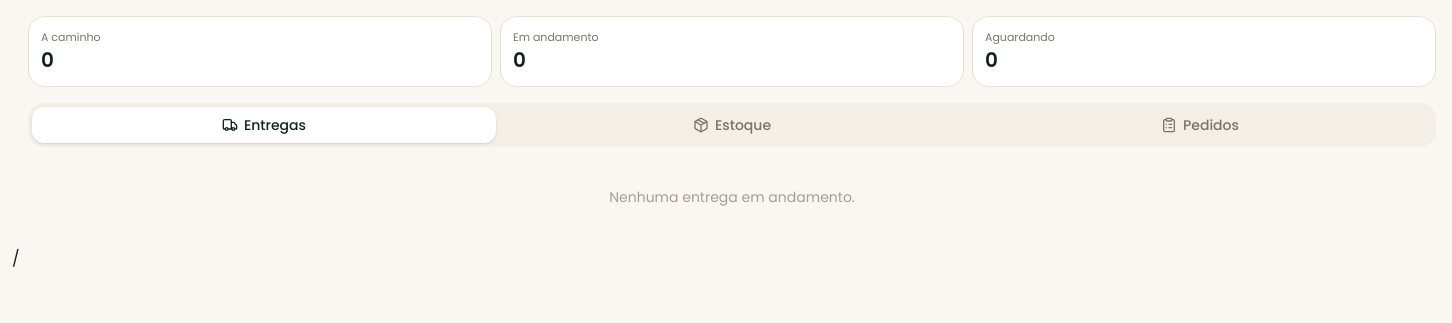
painel do cliente (só consulta) › sem entregas, estoque e lista de pedidos
Expected: the text "Nenhuma entrega em andamento." is shown, [609,186,855,206]
Click the tab "Estoque" at (732, 124), box [500,106,964,142]
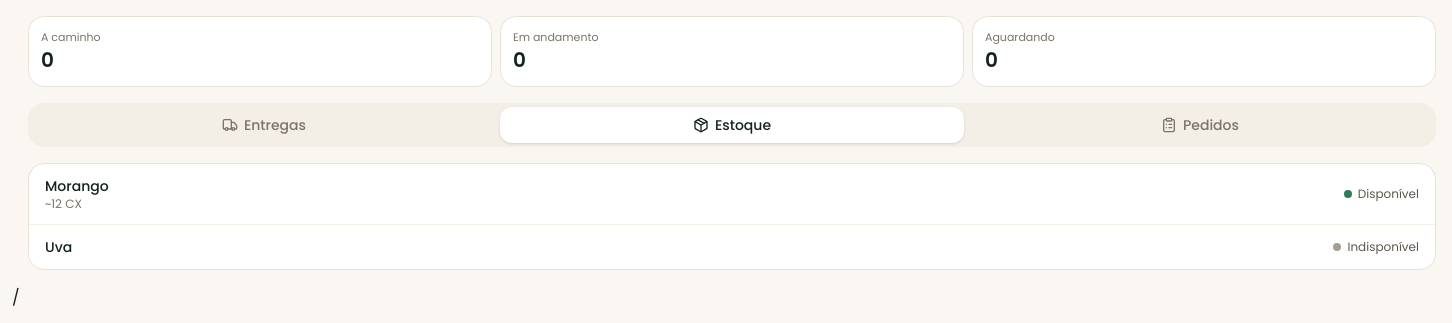
Expected: the text "Morango" is shown, [45,176,109,196]
Expected: the text "~12 CX" is shown, [45,194,82,212]
Expected: the text "Indisponível" is shown, [1334,238,1419,254]
Click the tab "Pedidos" at (1200, 124), box [968,106,1432,142]
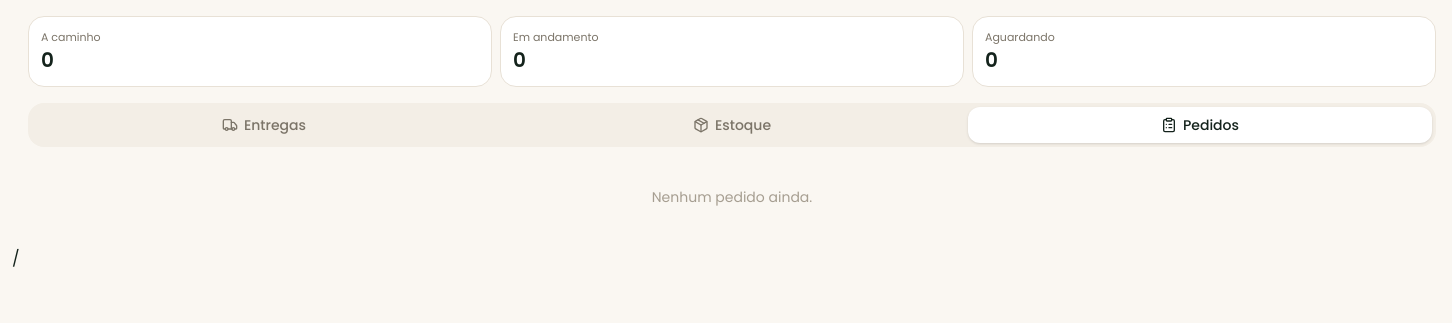
Expected: the list item "Nenhum pedido ainda." is shown, [652,186,812,206]
